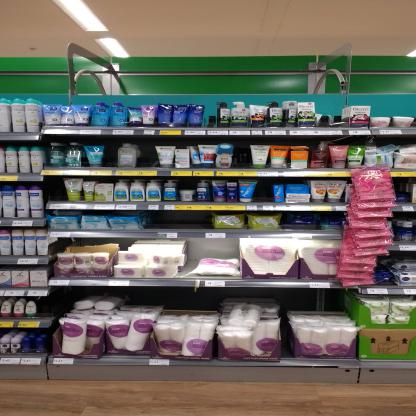Void: (286, 286, 346, 310), (144, 210, 209, 228), (167, 289, 213, 311), (188, 238, 234, 256), (122, 288, 160, 305), (318, 100, 336, 125), (50, 290, 70, 312), (141, 144, 156, 169), (48, 178, 63, 200), (260, 181, 271, 203), (236, 147, 248, 167), (106, 144, 116, 167)
